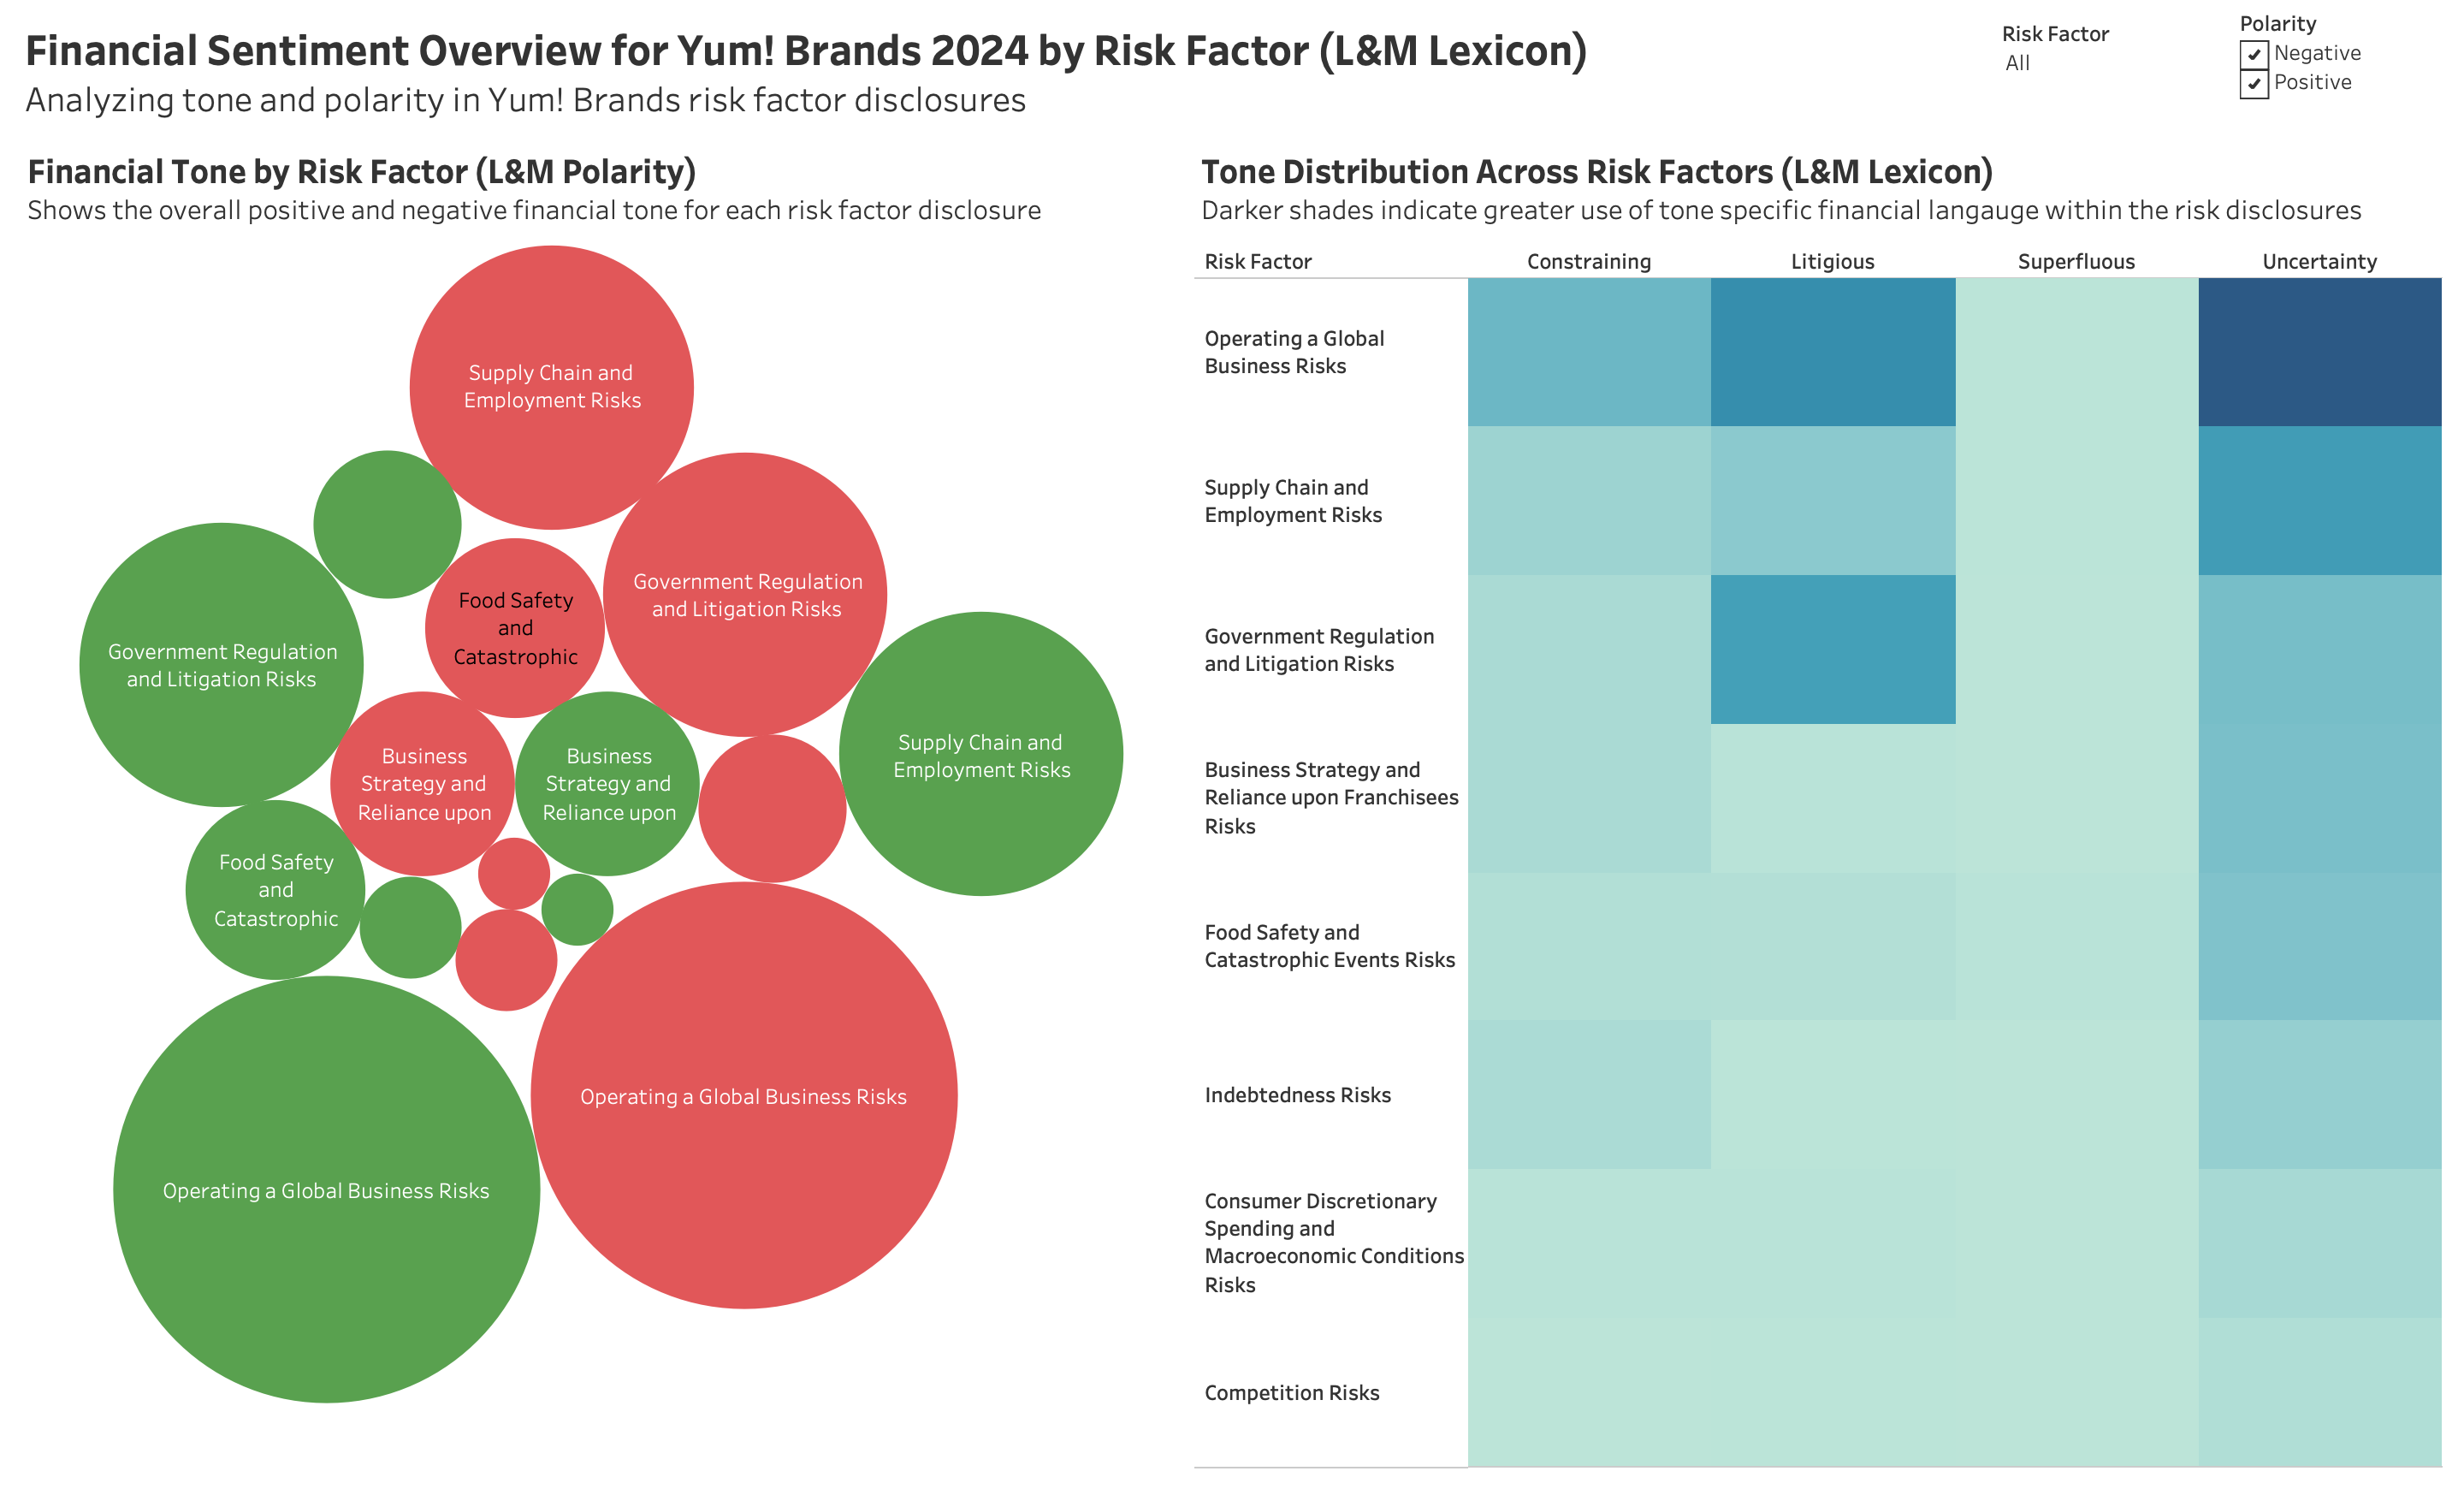

The page's visual inventory and layout, read from the dashboard file:
{"tool":"tableau","page":{"name":"L&M Dashboard","canvas":[1000,1000],"units":"permille","ordinal":0},"visuals":[{"type":"filter","title":"L&M  1","param":"[federated.03wgyiv1atsuz61ej4ymm1wo0w0e].[none:Polarity:nk]","box":[908.7,5.1,72,90.1]},{"type":"title","box":[4.7,8.1,990.6,68.8]},{"type":"filter","title":"L&M  1","param":"[federated.03wgyiv1atsuz61ej4ymm1wo0w0e].[none:Risk_Factor:nk]","box":[812.2,11.1,70.2,44.5]},{"type":"worksheet","title":"L&M  1","mark":"Circle","box":[4.7,76.9,468.7,914.9]},{"type":"worksheet","title":"L&M 2","mark":"Automatic","rows":["Risk_Factor"],"cols":["Sentiment_Polarity"],"box":[473.4,76.9,521.9,914.9]}]}

Visuals, with their boxes on the dashboard's canvas, which has no fixed pixel size, in thousandths of its width and height (x1, y1, x2, y2). These are canvas units, not pixel positions in the 2464x1489 screenshot, which may show the page scaled, cropped or inside an application window:
"L&M  1" filter: box=[909, 5, 981, 95]
title: box=[5, 8, 995, 77]
"L&M  1" filter: box=[812, 11, 882, 56]
"L&M  1" worksheet (Circle marks): box=[5, 77, 473, 992]
"L&M 2" worksheet: box=[473, 77, 995, 992]
